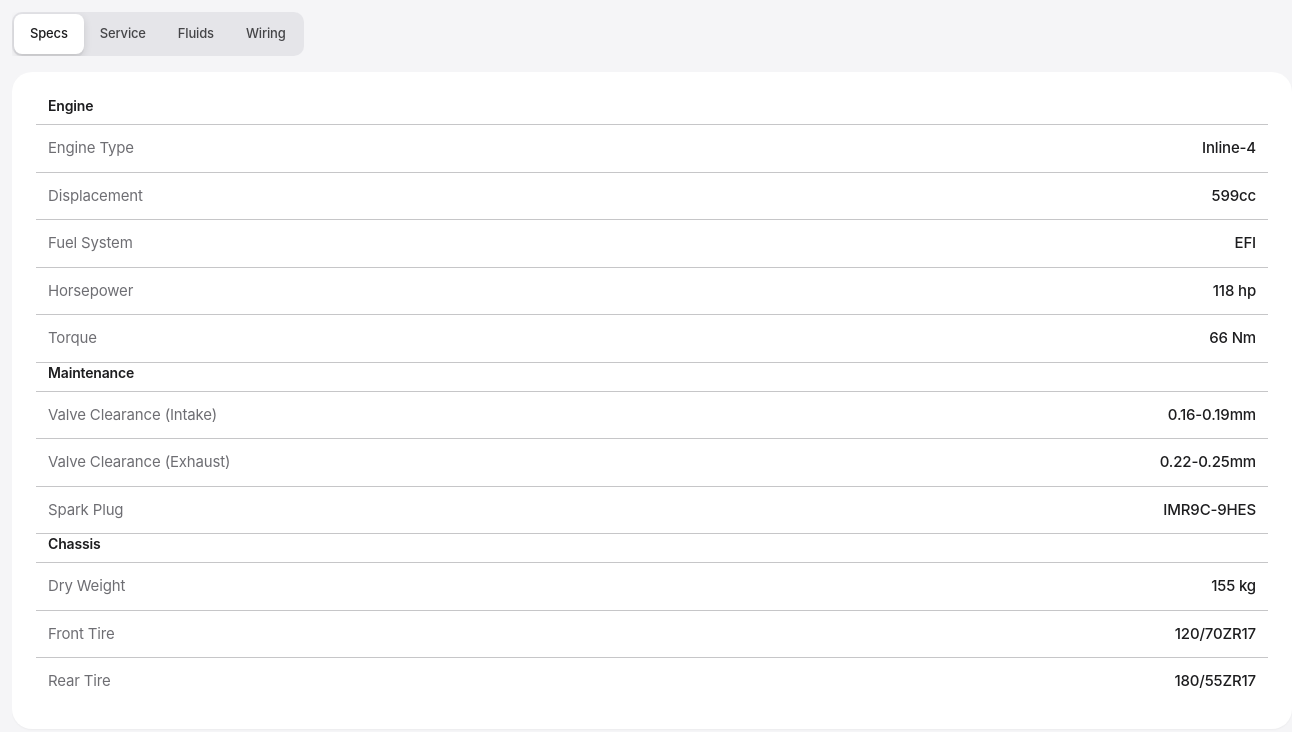
Scenario: BikeDetailTabs › switches to Fluids tab and shows fluid data
Click the tab "Fluids" at [196, 34], box left=162, top=14, right=230, bottom=54
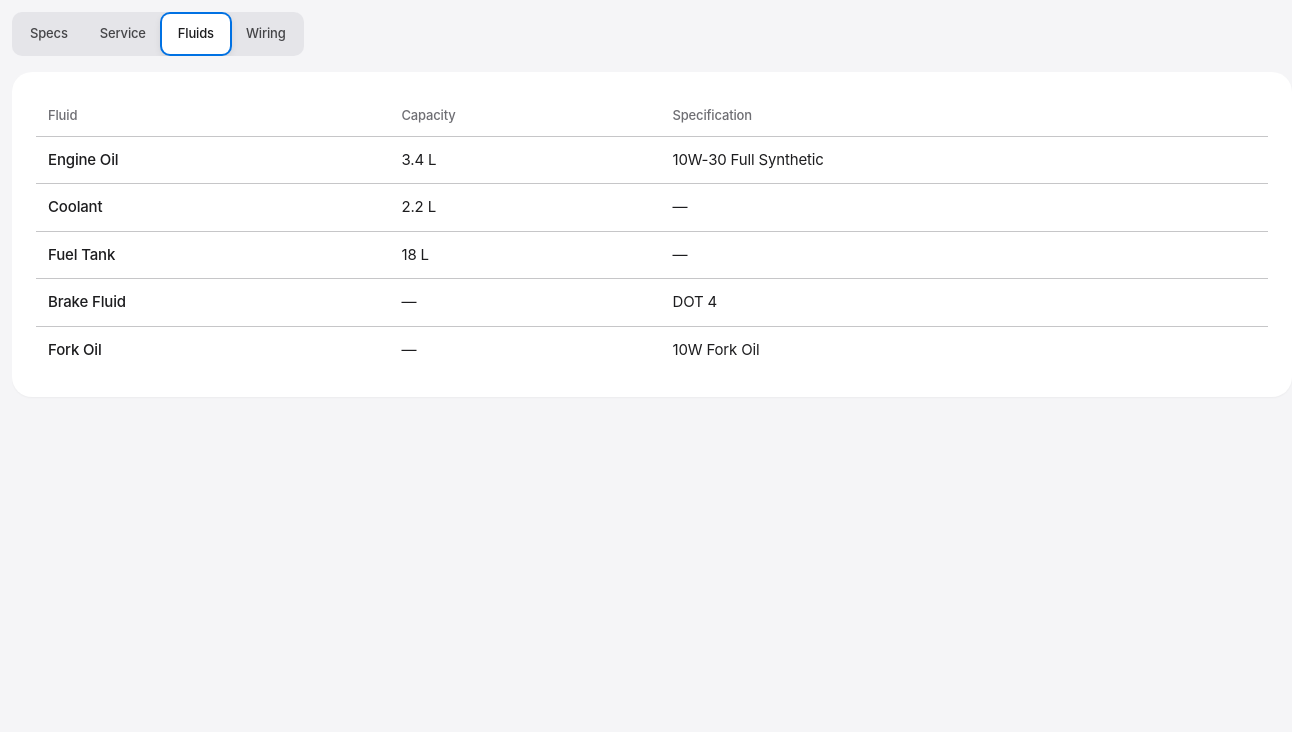
Result: the table with test id "fluids-table" is shown at left=36, top=96, right=1268, bottom=373
Result: the text "Engine Oil" is shown at left=36, top=136, right=390, bottom=184
Result: the text "3.4 L" is shown at left=390, top=136, right=660, bottom=184
